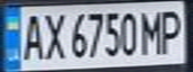0: (118, 8, 142, 56)
5: (103, 8, 124, 57)
6: (66, 9, 87, 60)
7: (84, 9, 106, 57)
A: (18, 10, 45, 61)
M: (139, 7, 166, 55)
P: (157, 6, 187, 55)
X: (39, 9, 69, 61)
